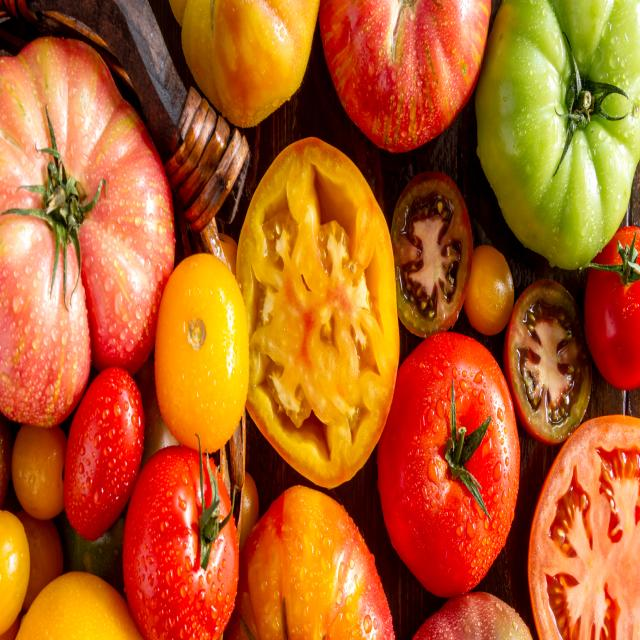apple: (377, 330, 520, 597), (126, 445, 239, 635), (584, 225, 640, 395)
